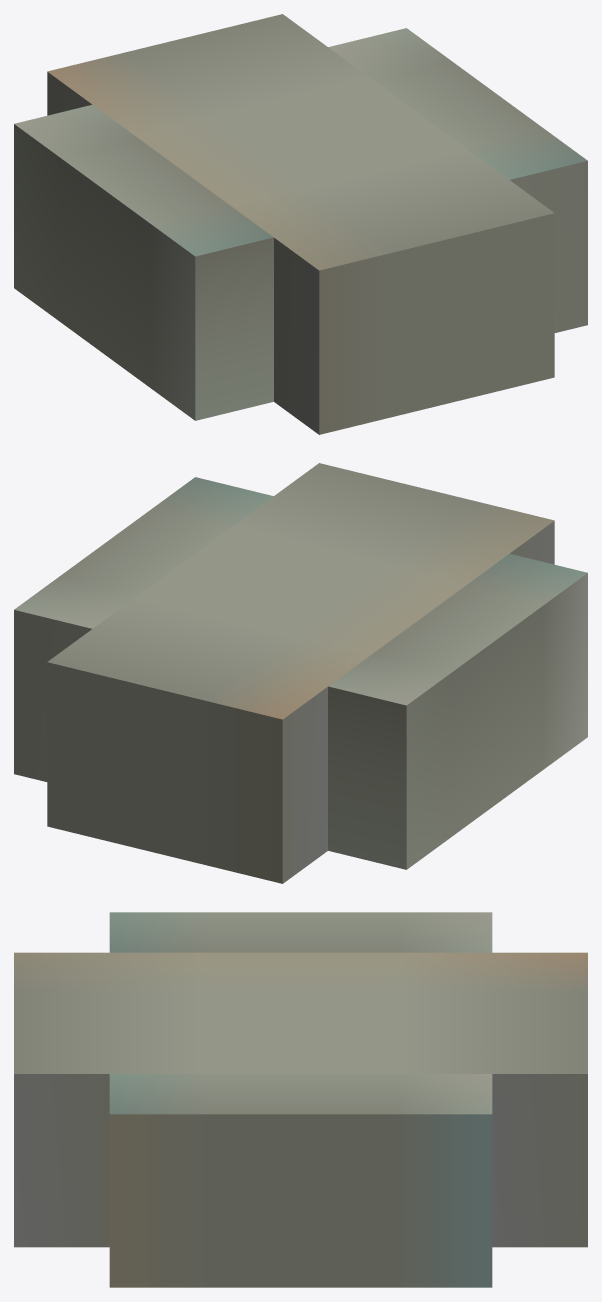
File: PillowDarkGreyTiny_00.fbx
3 renders of one model, top to bottom at view 1: azimuth 30°, elevation 25°; view 2: azimuth 150°, elevation 25°; view 3: azimuth 270°, elevation 25°, orthographic. The views are drawn at different scales.
Visible parts, largest first — view 1: PillowDarkGreyTiny_00; view 2: PillowDarkGreyTiny_00; view 3: PillowDarkGreyTiny_00.
Boxes of the visible parts, left/top/right/bottom form: PillowDarkGreyTiny_00: left=14, top=14, right=587, bottom=434; PillowDarkGreyTiny_00: left=14, top=463, right=587, bottom=883; PillowDarkGreyTiny_00: left=14, top=912, right=587, bottom=1287.
Bounding box in the file's own units: 25 × 30 × 10.
1 material, 1 textured.
